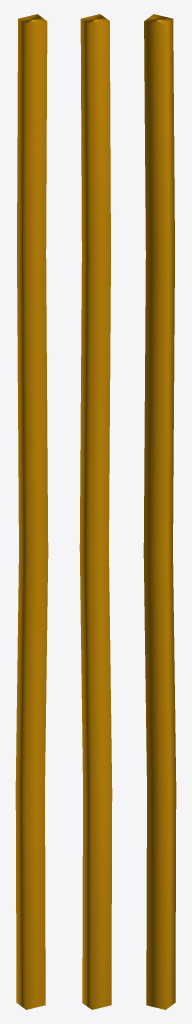
The model's file is Stick_02.fbx.
3 renders of one model, left to right at view 1: azimuth 30°, elevation 25°; view 2: azimuth 210°, elevation 25°; view 3: azimuth 330°, elevation 25°, orthographic.
Parts seen in each view (by area): view 1: Stick_02; view 2: Stick_02; view 3: Stick_02.
Boxes of the visible parts, left/top/right/bottom form: Stick_02: left=15, top=14, right=48, bottom=1009; Stick_02: left=79, top=14, right=112, bottom=1009; Stick_02: left=143, top=14, right=176, bottom=1009.
Size of the model in its own units: 6.24 by 297 by 7.11.
